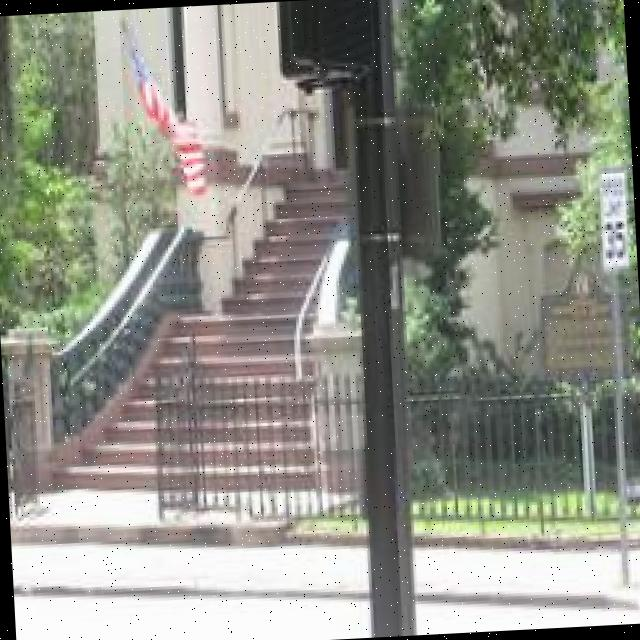stairs: (34, 119, 382, 529)
